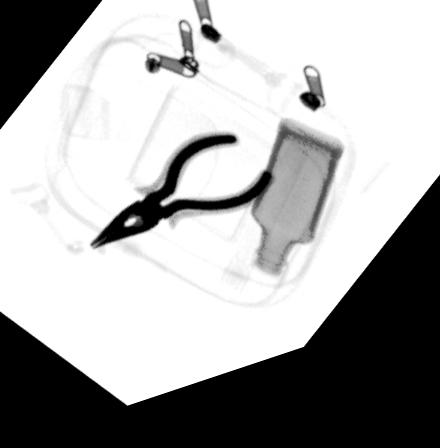Pliers: (87, 143, 274, 257)
